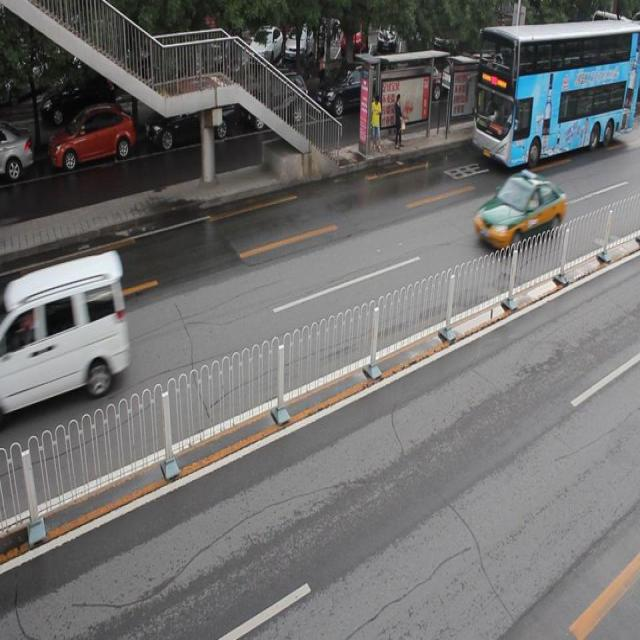car: (472, 164, 566, 252), (50, 105, 136, 172), (146, 94, 237, 154), (313, 63, 389, 124), (245, 72, 307, 128), (1, 127, 33, 181)
truck: (1, 247, 130, 412)
van: (472, 16, 640, 166)
